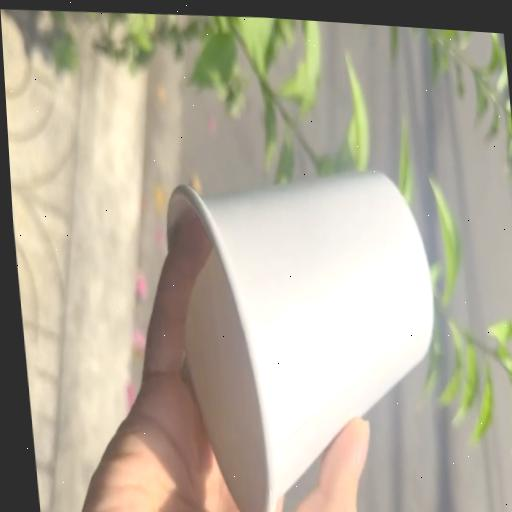Ly_giay: (167, 172, 432, 512)
